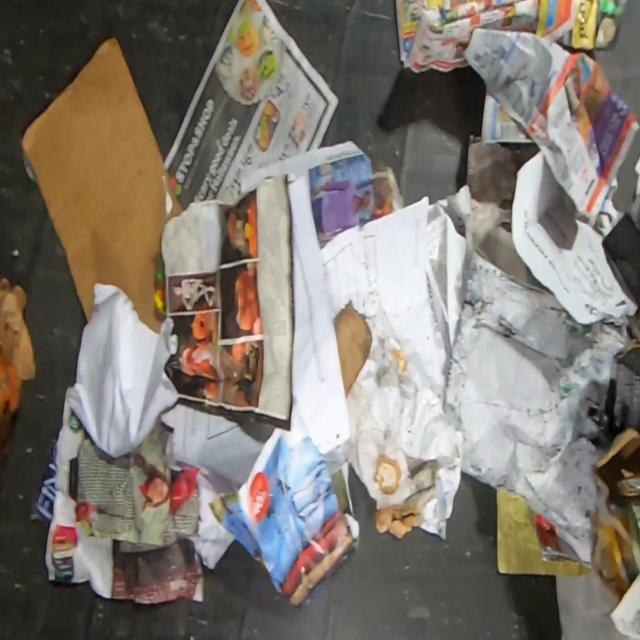cardboard: (18, 36, 184, 334), (590, 425, 640, 497)
